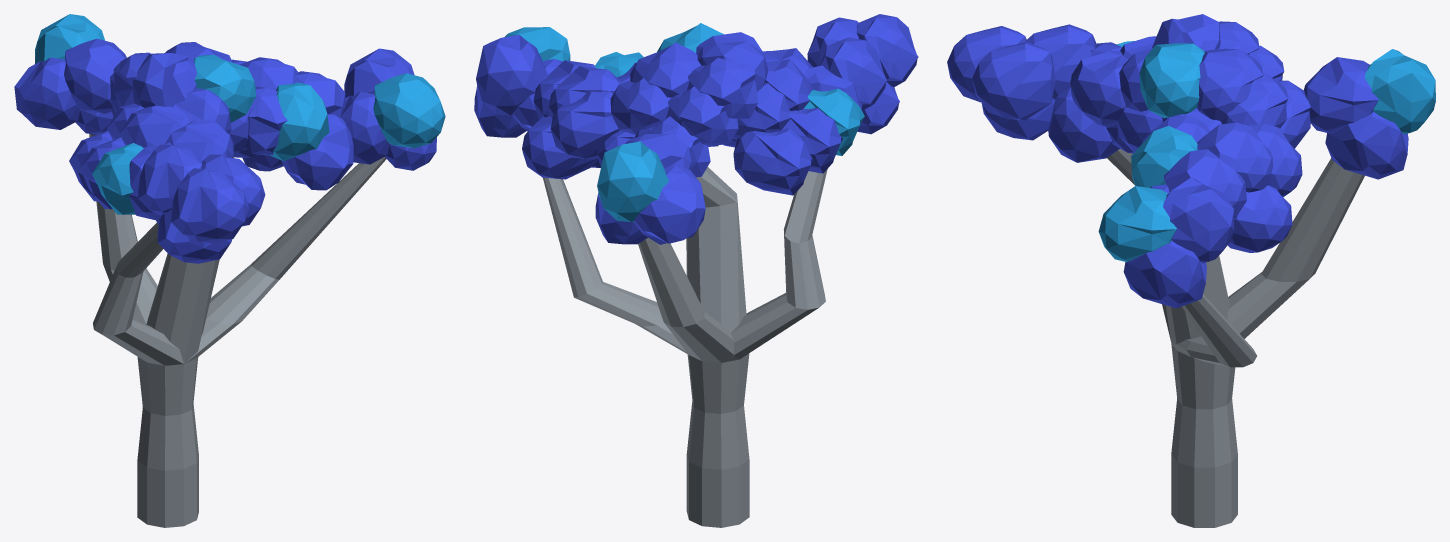
File: Tree Large.fbx
3 renders of one model, left to right at view 1: azimuth 30°, elevation 25°; view 2: azimuth 150°, elevation 25°; view 3: azimuth 270°, elevation 25°, orthographic. The views are drawn at different scales.
Visible parts, largest first — view 1: Cylinder, Icosphere.003, Icosphere.011, Icosphere.005, Icosphere.007, Icosphere.034, Icosphere.033, Icosphere.014, Icosphere.002, Icosphere.015, Icosphere.009, Icosphere.029 (+20 smaller); view 2: Cylinder, Icosphere.006, Icosphere.010, Icosphere.032, Icosphere.005, Icosphere.038, Icosphere.019, Icosphere.002, Icosphere.003, Icosphere.020, Icosphere.018, Icosphere.041 (+20 smaller); view 3: Cylinder, Icosphere.004, Icosphere.006, Icosphere.010, Icosphere.011, Icosphere.007, Icosphere.015, Icosphere.008, Icosphere.012, Icosphere.017, Icosphere.025, Icosphere.041 (+16 smaller).
Boxes of the visible parts, left/top/right/bottom form: Cylinder: left=89, top=134, right=386, bottom=527; Icosphere.003: left=171, top=168, right=249, bottom=243; Icosphere.011: left=373, top=73, right=445, bottom=148; Icosphere.005: left=14, top=57, right=80, bottom=129; Icosphere.007: left=64, top=38, right=126, bottom=113; Icosphere.034: left=269, top=82, right=329, bottom=160; Icosphere.033: left=281, top=114, right=353, bottom=190; Icosphere.014: left=132, top=53, right=196, bottom=107; Icosphere.002: left=138, top=144, right=202, bottom=215; Icosphere.015: left=194, top=54, right=255, bottom=122; Icosphere.009: left=340, top=92, right=389, bottom=164; Icosphere.029: left=92, top=143, right=143, bottom=214; Cylinder: left=543, top=167, right=827, bottom=527; Icosphere.006: left=597, top=141, right=668, bottom=222; Icosphere.010: left=476, top=34, right=547, bottom=115; Icosphere.032: left=733, top=128, right=813, bottom=195; Icosphere.005: left=634, top=165, right=705, bottom=244; Icosphere.038: left=550, top=91, right=619, bottom=159; Icosphere.019: left=687, top=57, right=758, bottom=119; Icosphere.002: left=820, top=37, right=887, bottom=110; Icosphere.003: left=856, top=14, right=918, bottom=87; Icosphere.020: left=666, top=86, right=738, bottom=146; Icosphere.018: left=610, top=78, right=671, bottom=134; Icosphere.041: left=522, top=116, right=597, bottom=179; Cylinder: left=1107, top=148, right=1364, bottom=527; Icosphere.004: left=972, top=42, right=1055, bottom=120; Icosphere.006: left=1364, top=49, right=1435, bottom=134; Icosphere.010: left=1163, top=178, right=1234, bottom=263; Icosphere.011: left=1098, top=186, right=1176, bottom=262; Icosphere.007: left=1304, top=57, right=1378, bottom=133; Icosphere.015: left=1139, top=43, right=1204, bottom=118; Icosphere.008: left=1325, top=111, right=1408, bottom=179; Icosphere.012: left=1123, top=241, right=1206, bottom=308; Icosphere.017: left=1197, top=48, right=1263, bottom=121; Icosphere.025: left=1070, top=51, right=1127, bottom=127; Icosphere.041: left=1227, top=185, right=1292, bottom=252.
Size of the model in its own units: 1302 by 1627 by 1465.
